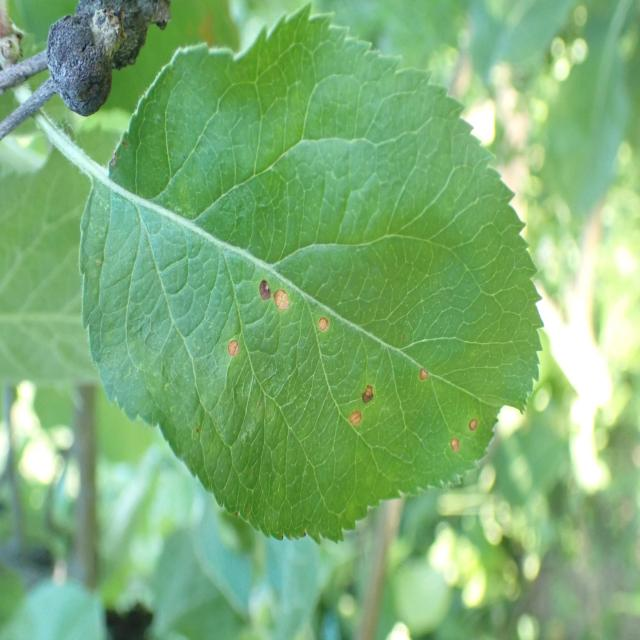Black Rot: (248, 264, 304, 324), (331, 404, 367, 453), (354, 366, 386, 421), (462, 402, 487, 455), (222, 326, 246, 379), (438, 430, 466, 462), (414, 357, 434, 397), (312, 304, 334, 338)
